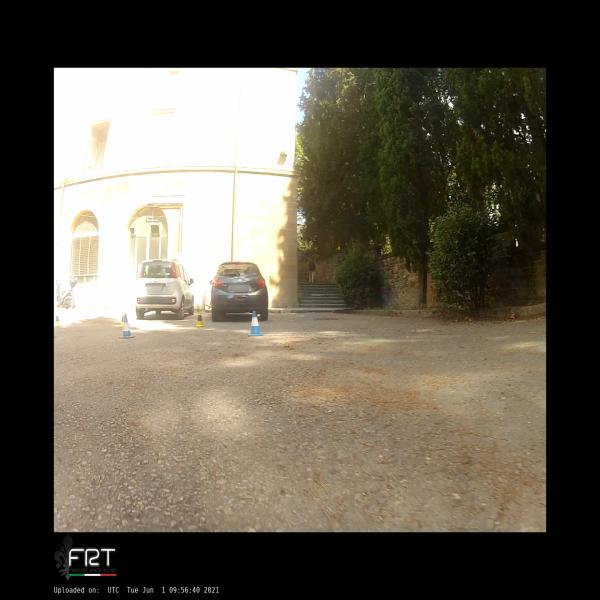blue_cone: (247, 311, 263, 336), (120, 314, 136, 338)
yellow_cone: (195, 311, 205, 327), (54, 313, 61, 327), (119, 311, 124, 327)
